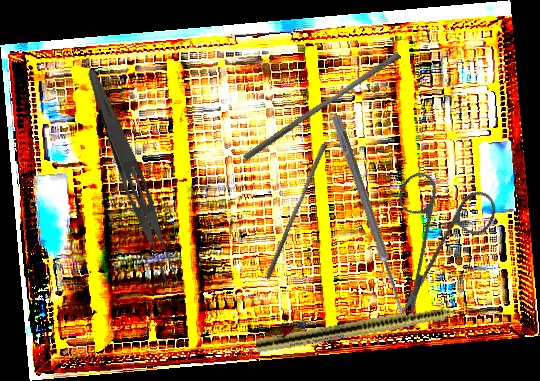Dressing Forceps: (75, 66, 187, 291)
Handpiece: (255, 297, 488, 357)
Iris Scissors: (347, 148, 525, 324)
Pusher: (242, 45, 402, 168), (264, 140, 328, 283)
Surgical Spoon: (329, 114, 411, 323)
